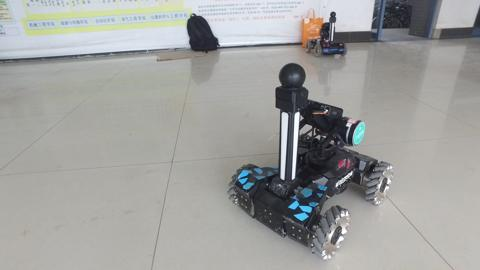bag: (185, 12, 221, 54), (300, 8, 324, 50)
chariot: (225, 62, 394, 261), (304, 11, 348, 58)
